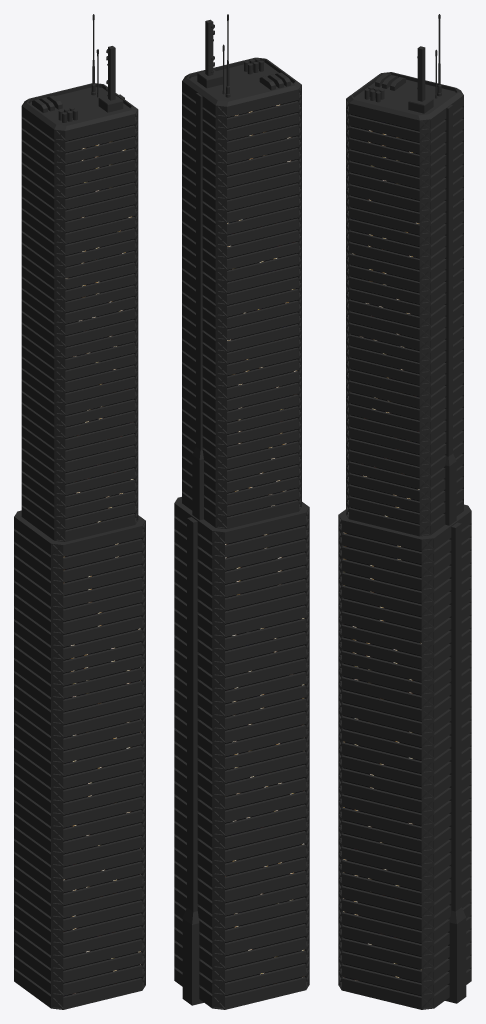
The model's file is futuristic-tower.glb.
3 views of the same model, side by side, from view 1: azimuth 30°, elevation 25°; view 2: azimuth 210°, elevation 25°; view 3: azimuth 330°, elevation 25° (orthographic). The views are drawn at different scales.
Parts seen in each view (by area): view 1: futurist-tower; view 2: futurist-tower; view 3: futurist-tower.
Part boxes in pixels (<box>): futurist-tower: <box>14,14,145,1009</box>; futurist-tower: <box>174,14,309,1009</box>; futurist-tower: <box>338,14,471,1009</box>.
Bounding box in the file's own units: 34.99 × 315 × 27.34.
Materials: 2 (1 with a texture image).
